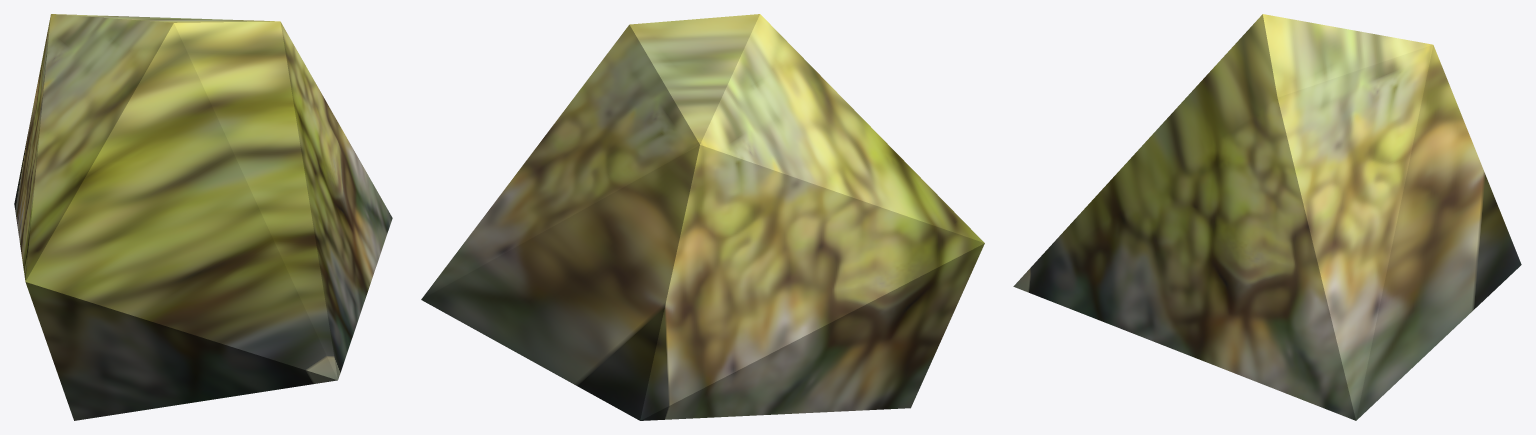
Rendered from Ridge_3_Rock.gltf.
3 renders of one model, left to right at view 1: azimuth 30°, elevation 25°; view 2: azimuth 150°, elevation 25°; view 3: azimuth 270°, elevation 25°, orthographic. The views are drawn at different scales.
Parts seen in each view (by area): view 1: Ridge_3_Rock; view 2: Ridge_3_Rock; view 3: Ridge_3_Rock.
Part boxes in pixels (box(x1,y1,x2,y2)): Ridge_3_Rock: box(14, 14, 392, 420); Ridge_3_Rock: box(421, 14, 984, 420); Ridge_3_Rock: box(1013, 14, 1521, 420).
Size of the model in its own units: 7.7 by 5.82 by 7.95.
Materials: 1 (1 with a texture image).
